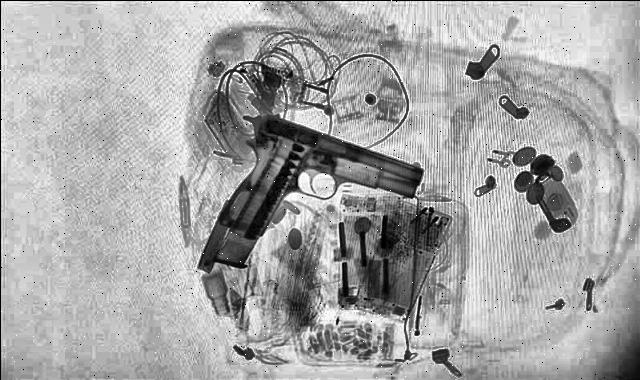Gun: (192, 111, 426, 275)
